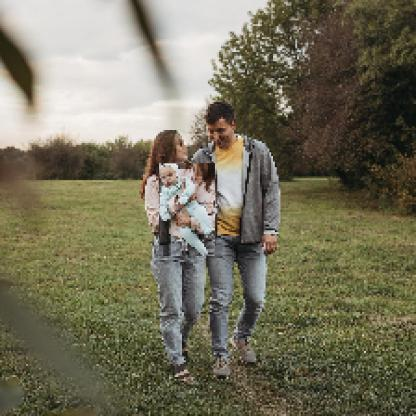child: (160, 164, 217, 258)
